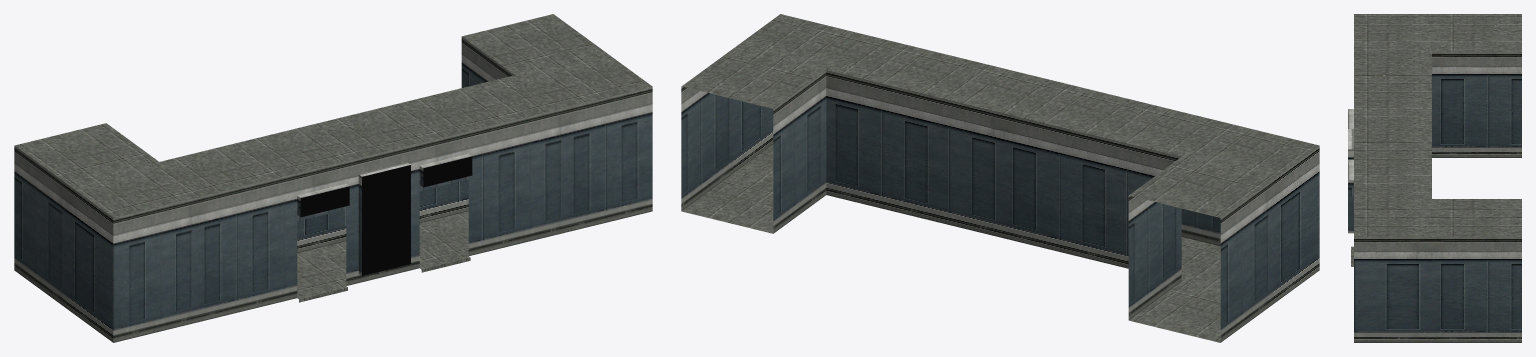
The model's file is thm_corl_imprv_building_s05_r1_foyer1_mesh_l0.fbx.
3 views of the same model, side by side, from view 1: azimuth 30°, elevation 25°; view 2: azimuth 150°, elevation 25°; view 3: azimuth 270°, elevation 25° (orthographic). The views are drawn at different scales.
Visible parts, largest first — view 1: mesh_node; view 2: mesh_node; view 3: mesh_node.
Boxes of the visible parts, box(x1,y1,x2,y2) form: mesh_node: box(14, 14, 652, 342); mesh_node: box(681, 14, 1319, 342); mesh_node: box(1348, 14, 1521, 342).
Size of the model in its own units: 17.6 by 4 by 5.8.
